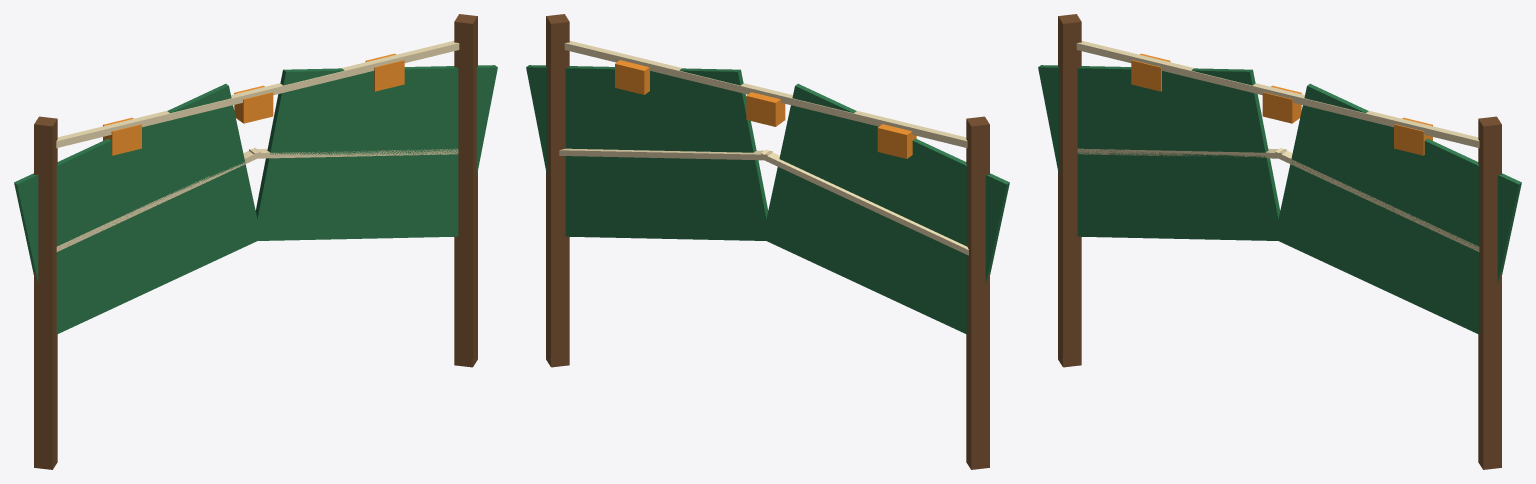
The model's file is rede_pesca.glb.
3 renders of one model, left to right at view 1: azimuth 30°, elevation 25°; view 2: azimuth 150°, elevation 25°; view 3: azimuth 330°, elevation 25°, orthographic.
Visible parts, largest first — view 1: corpo; view 2: corpo; view 3: corpo.
Boxes of the visible parts, x1,y1,x2,y2 form: corpo: (14, 14, 497, 469); corpo: (526, 14, 1009, 469); corpo: (1038, 14, 1521, 469).
Bounding box in the file's own units: 0.7326 × 0.5 × 0.0365.
